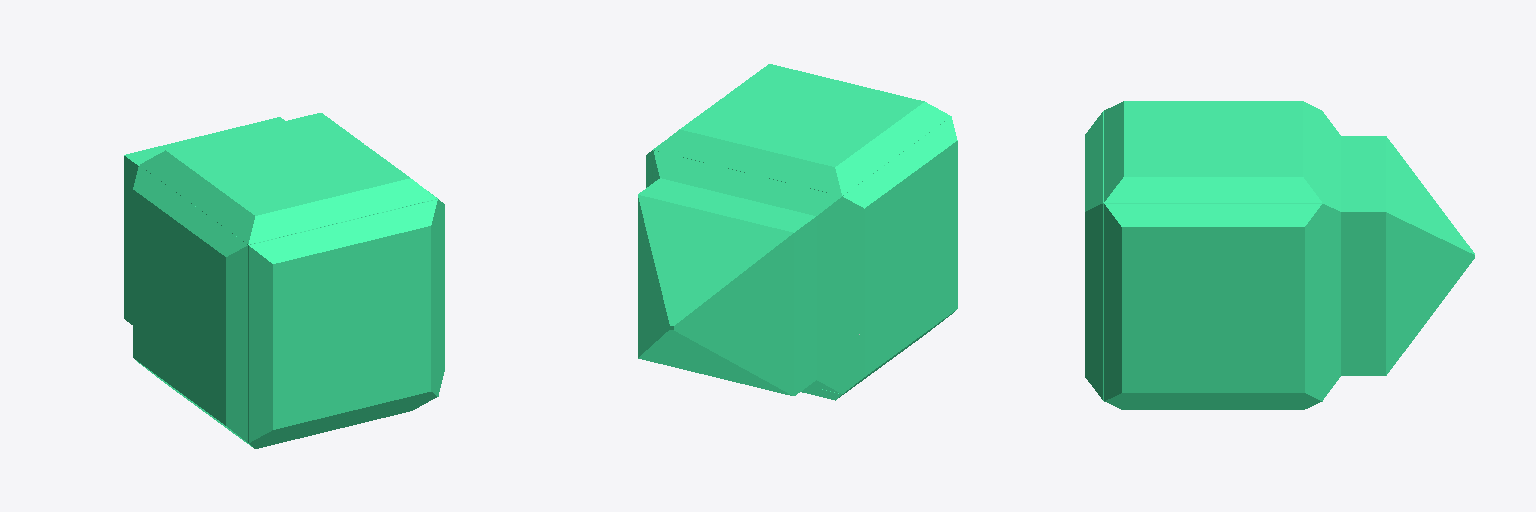
The picture shows the model from 3 angles: view 1: azimuth 30°, elevation 25°; view 2: azimuth 150°, elevation 25°; view 3: azimuth 270°, elevation 25°; orthographic projection.
Parts seen in each view (by area): view 1: Cube; view 2: Cube; view 3: Cube.
Boxes of the visible parts, <box> form: Cube: <box>124,113,444,448</box>; Cube: <box>638,64,957,400</box>; Cube: <box>1085,101,1474,409</box>.
Size of the model in its own units: 2.32 by 2.35 by 3.56.
Materials: 1 (1 with a texture image).